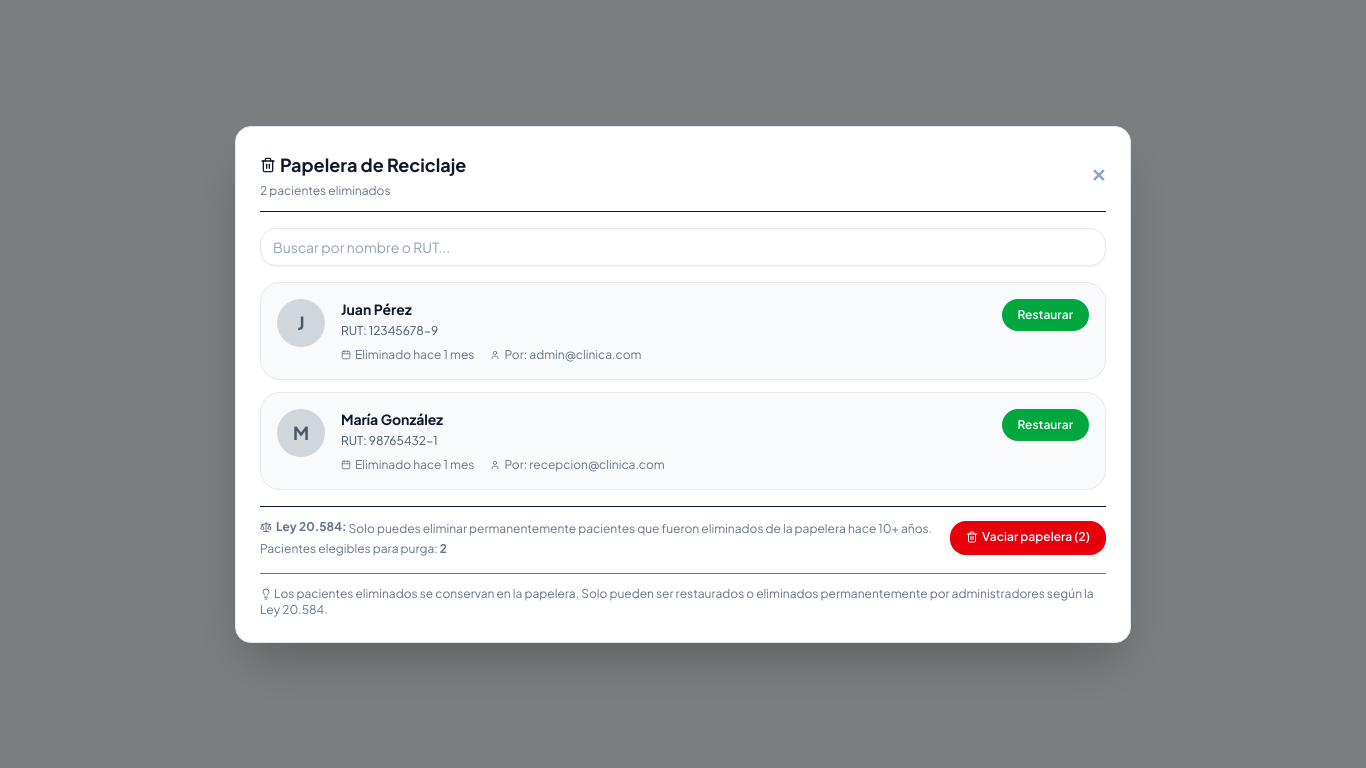
ModalPapelera (F6-L) › cierra modal de confirmación al hacer click en Cancelar
Click the button "Vaciar papelera (2)".
click(1028, 538)  # box [950,520,1106,554]
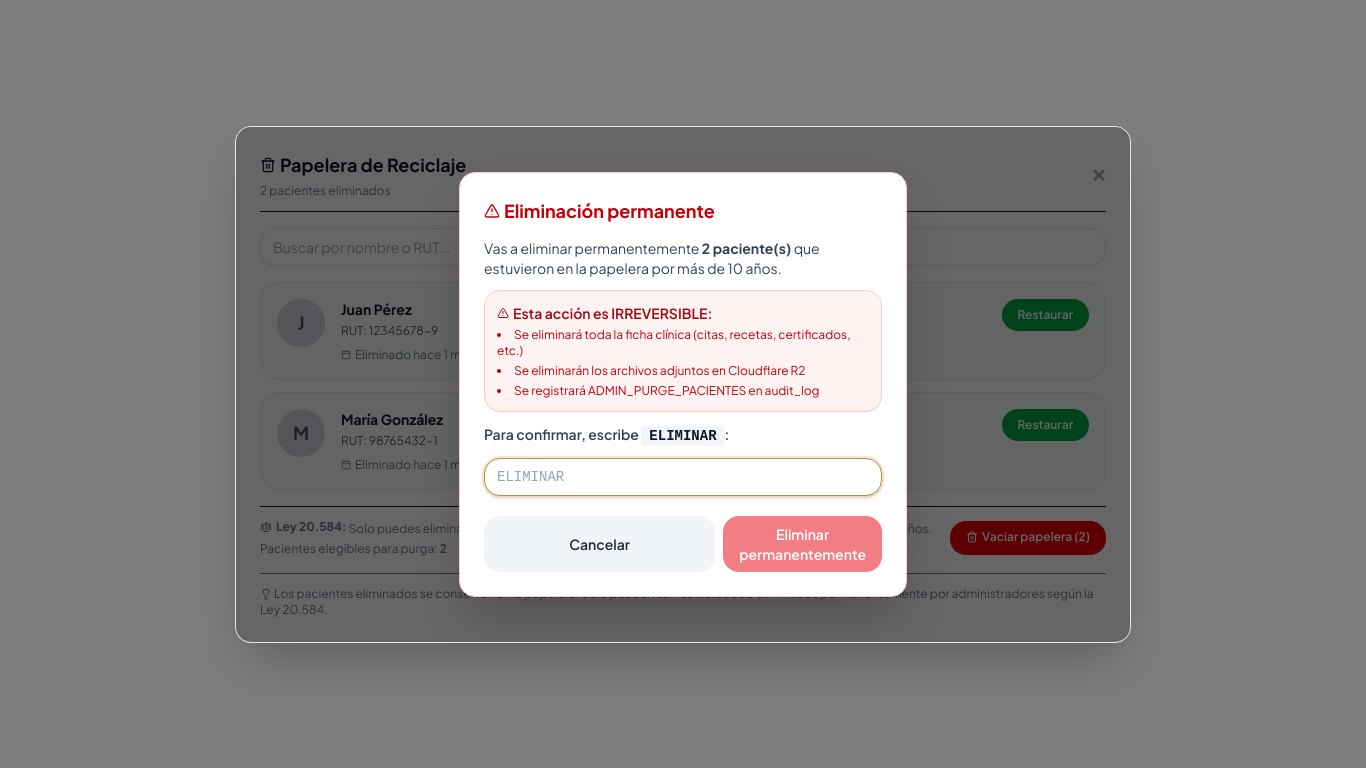
Check: the text "Eliminación permanente" is shown, box [484,196,715,224]
Click the button "Cancelar".
click(600, 544)  # box [484,516,715,572]
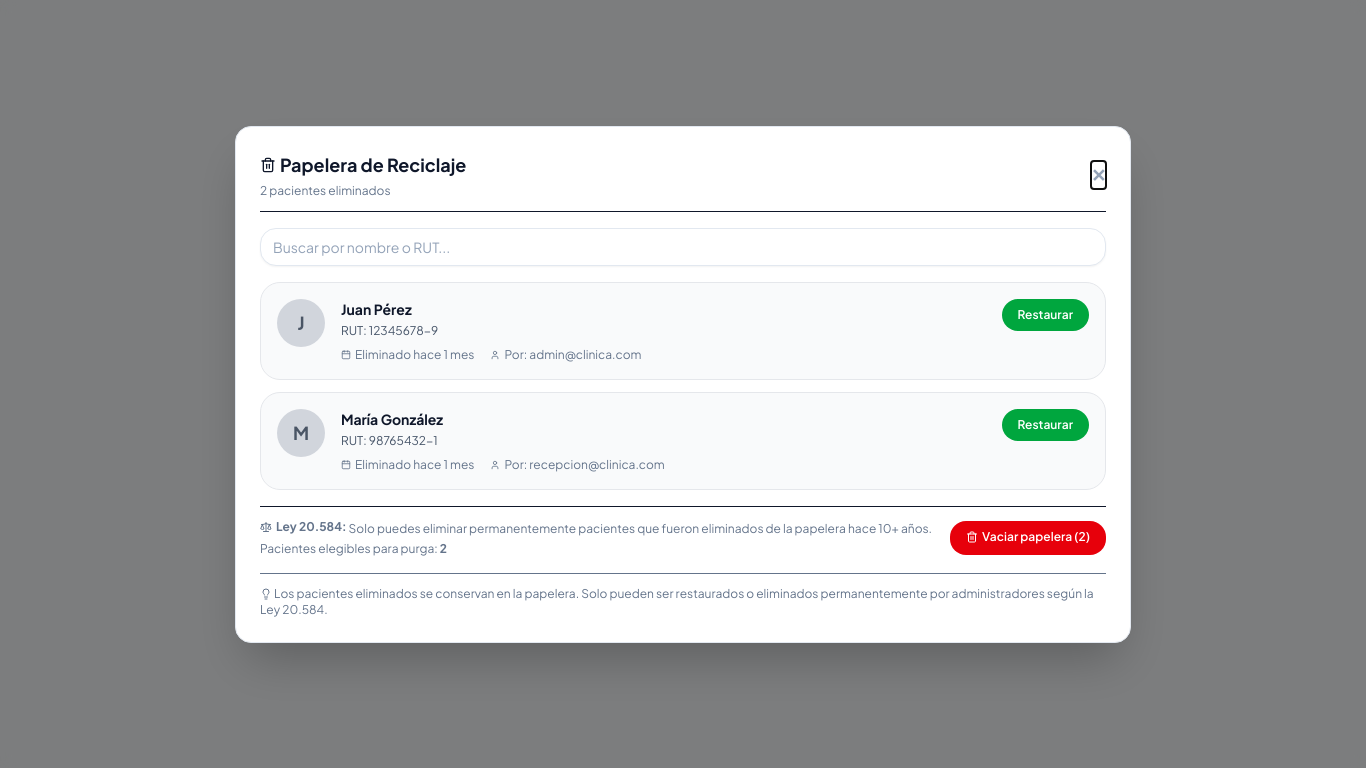
Check: the text "Eliminación permanente" is gone
